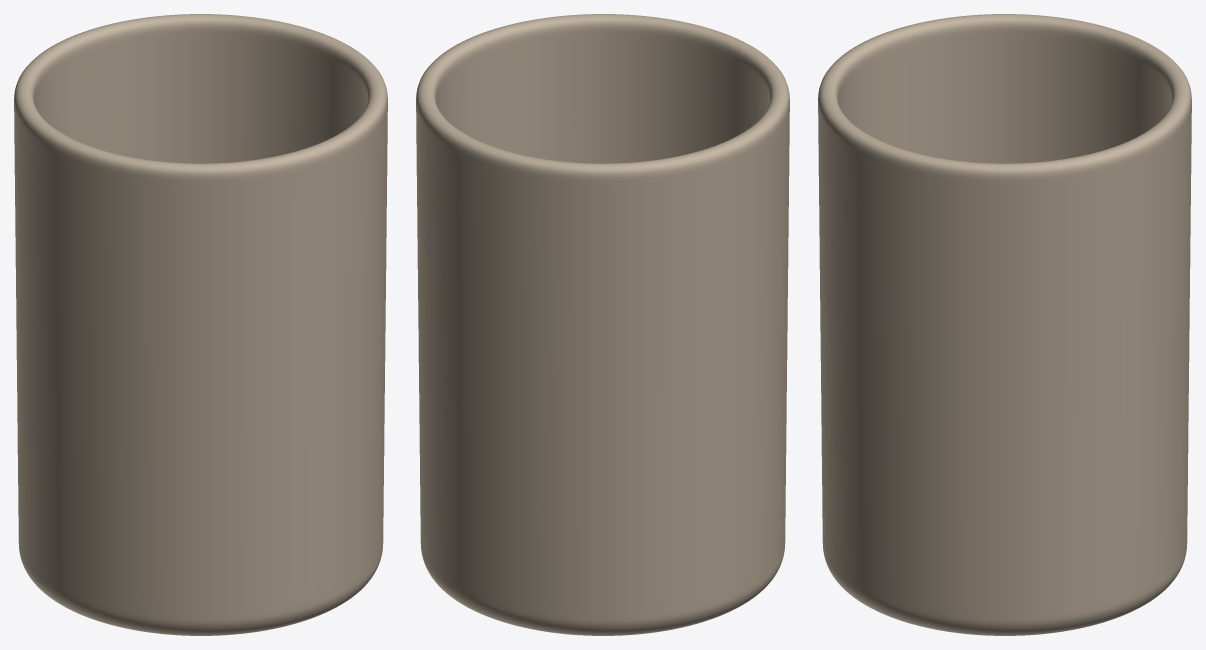
Rendered from 3dcodebench_Cup_seed0.glb.
The picture shows the model from 3 angles, left to right: view 1: azimuth 30°, elevation 25°; view 2: azimuth 150°, elevation 25°; view 3: azimuth 270°, elevation 25°; orthographic projection.
Parts seen in each view (by area): view 1: object; view 2: object; view 3: object.
Boxes of the visible parts, x1=… form: object: x1=14, y1=14, x2=387, y2=635; object: x1=416, y1=14, x2=789, y2=635; object: x1=818, y1=14, x2=1191, y2=635.
Bounding box in the file's own units: 0.144 × 0.2031 × 0.144.
